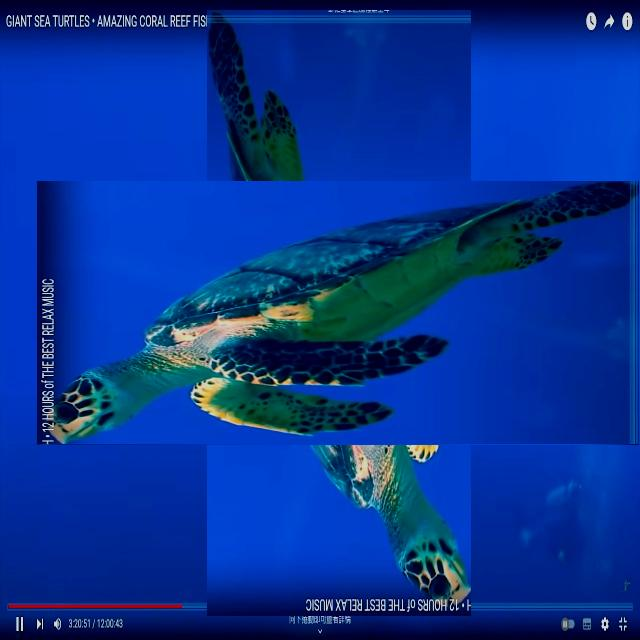Sea turtle: (122, 96, 557, 530)
